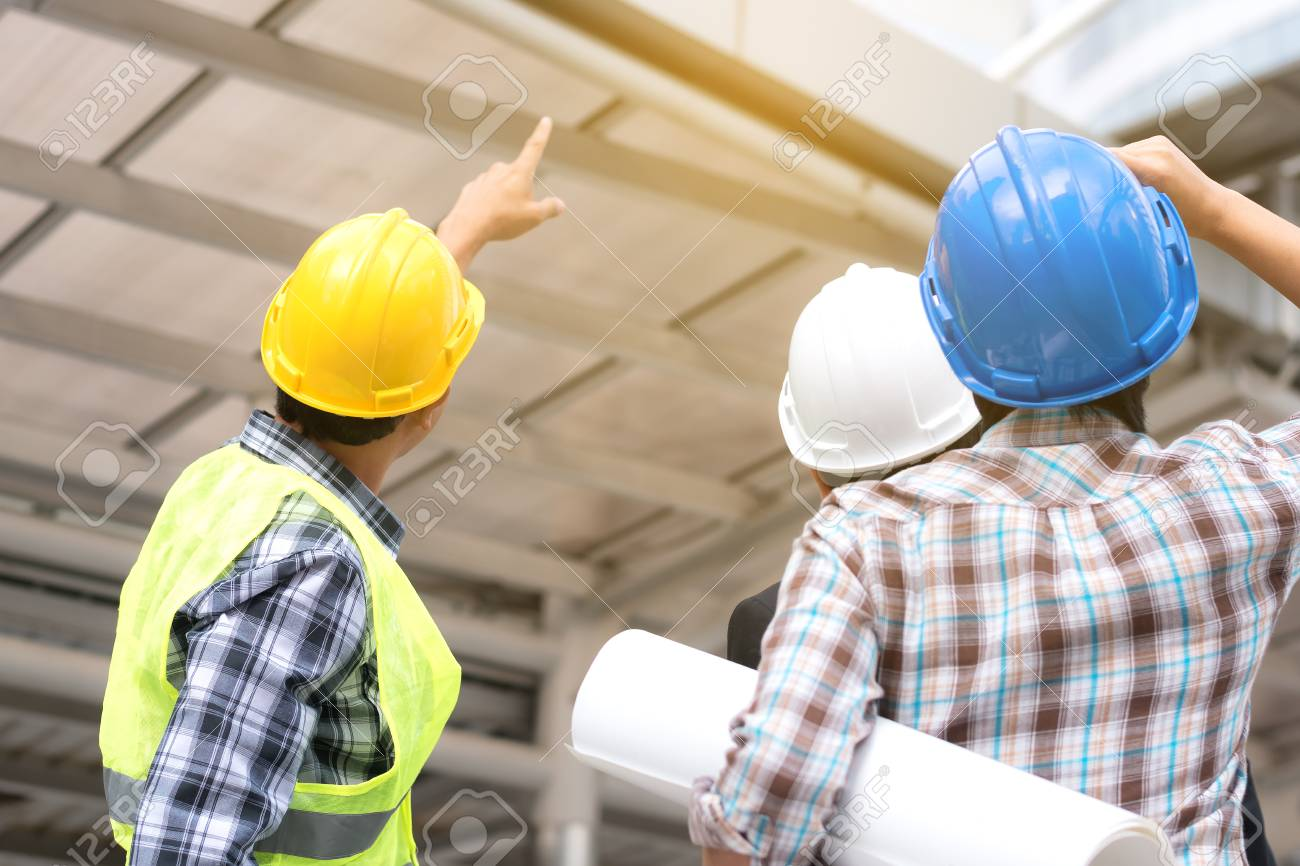casco: (917, 122, 1202, 409), (258, 205, 489, 422), (774, 259, 987, 478)
